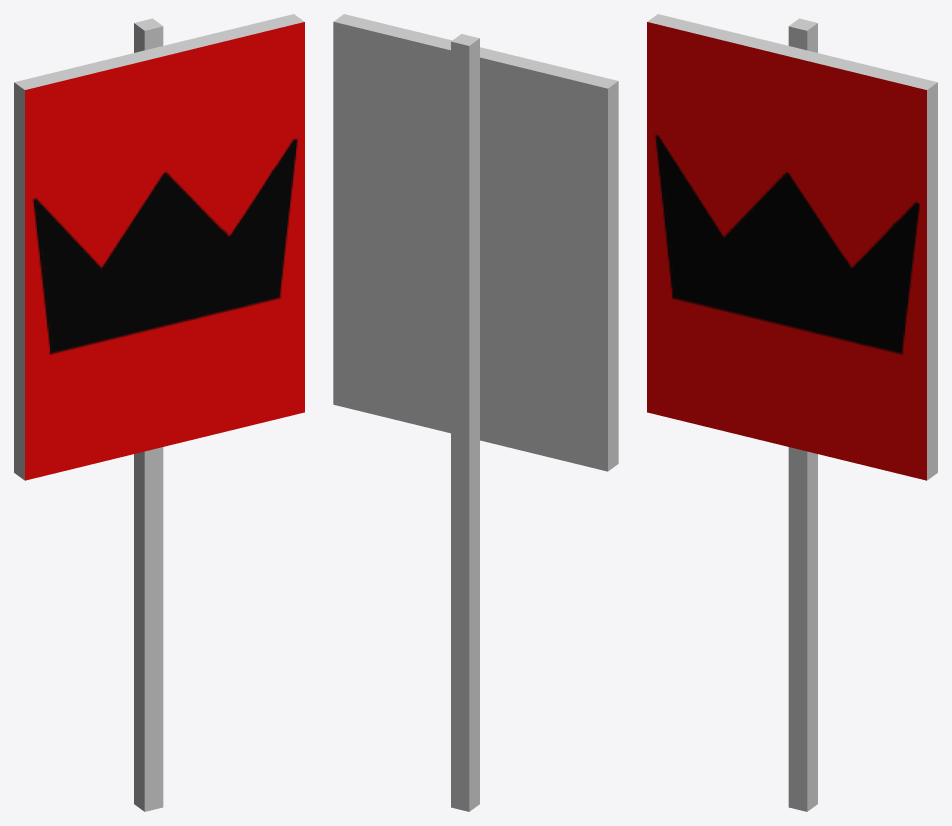
Rendered from red_leader_sign.fbx.
3 views of the same model, side by side, from view 1: azimuth 30°, elevation 25°; view 2: azimuth 150°, elevation 25°; view 3: azimuth 330°, elevation 25° (orthographic).
Parts seen in each view (by area): view 1: LeaderSign; view 2: LeaderSign; view 3: LeaderSign.
Part boxes in pixels (x1,y1,x2,y2): LeaderSign: [14, 14, 304, 811]; LeaderSign: [333, 14, 618, 811]; LeaderSign: [647, 14, 937, 811].
Bounding box in the file's own units: 150 × 400 × 20.
